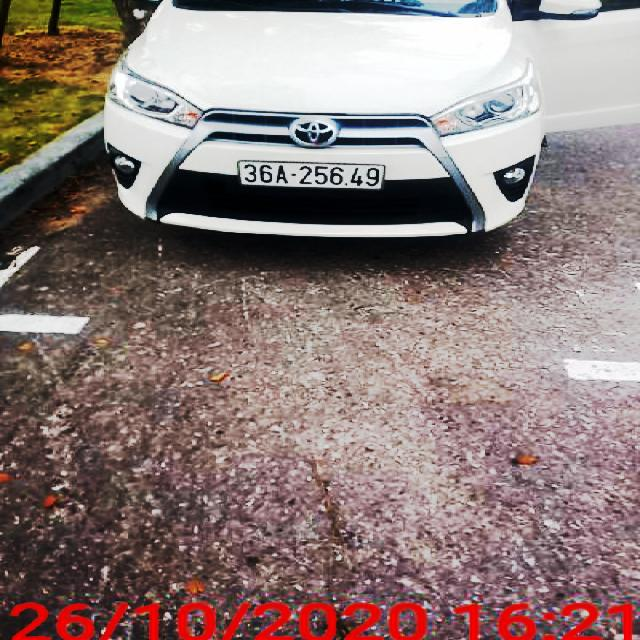license_plate: (240, 161, 386, 190)
